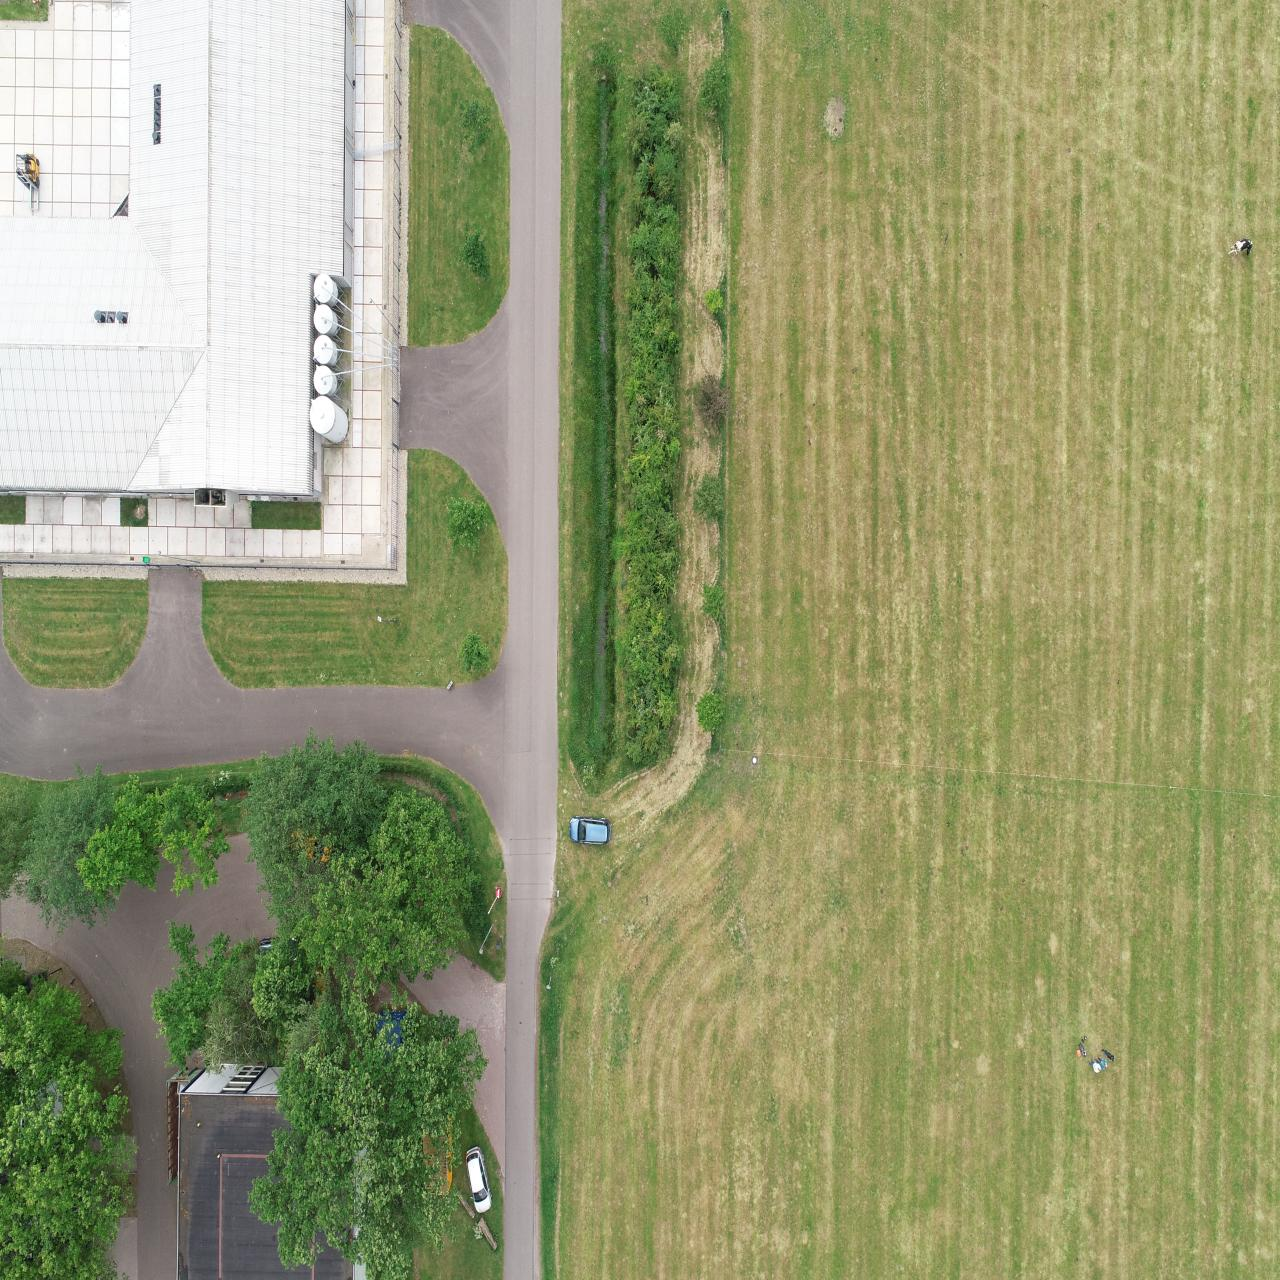cow: (1227, 238, 1253, 256)
